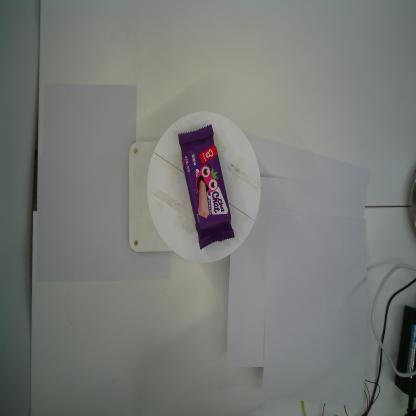Dessert: (176, 123, 236, 249)
